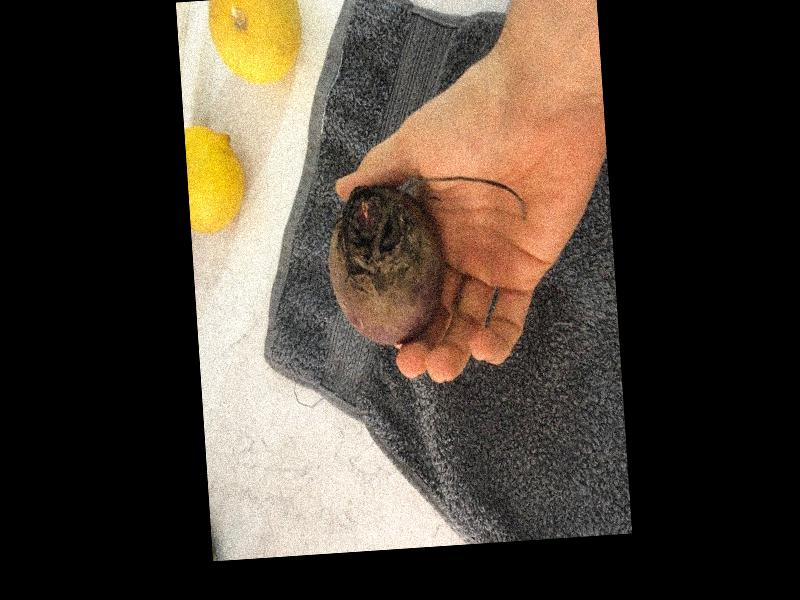Beet: (323, 176, 533, 351)
